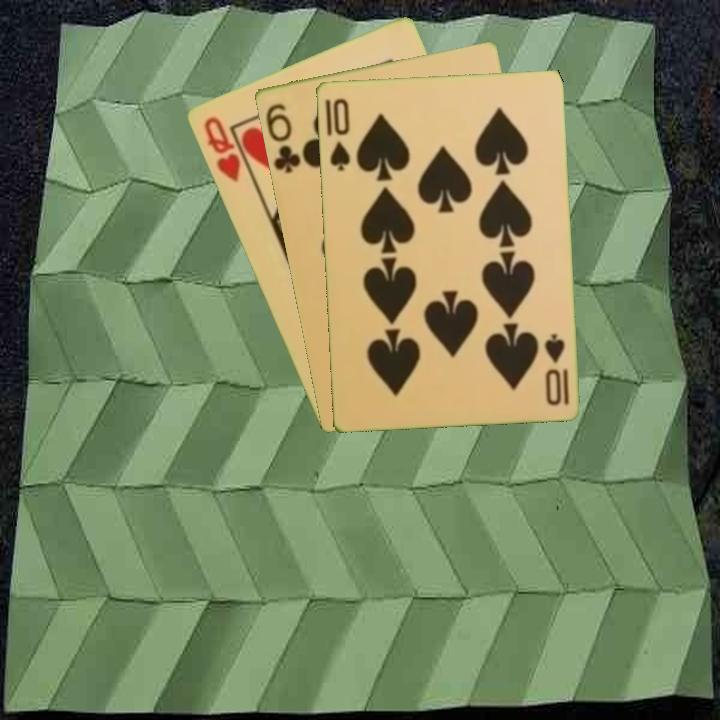10s: (541, 329, 572, 408), (326, 94, 353, 173)
6c: (261, 99, 303, 176)
Qh: (199, 113, 243, 185)
